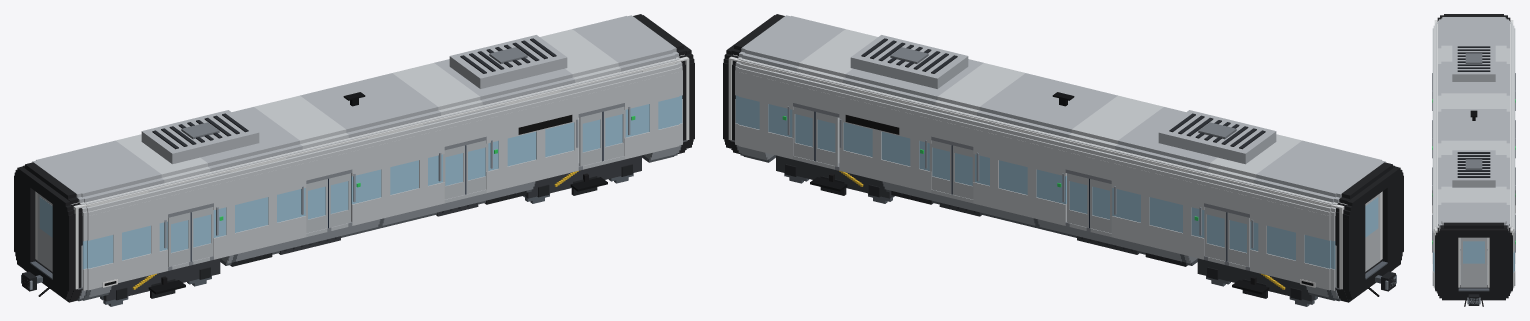
The model's file is r160_car.obj.
3 renders of one model, left to right at view 1: azimuth 30°, elevation 25°; view 2: azimuth 150°, elevation 25°; view 3: azimuth 270°, elevation 25°, orthographic. The views are drawn at different scales.
Visible parts, largest first — view 1: SHELL, SHELL_roof, SHELL_diaphragm, SHELL_ceiling, BOGEY_REAR, BOGEY_FRONT, FRAME, EXTERNAL_DOOR_22_CG_DR4_TOGGLE_TL_-0.61_X, EXTERNAL_DOOR_4_CG_DR1_TOGGLE_TL_-0.61_X, EXTERNAL_DOOR_10_CG_DR2_TOGGLE_TL_-0.61_X, EXTERNAL_DOOR_16_CG_DR3_TOGGLE_TL_-0.61_X, EXTERNAL_DOOR_5_CG_DR1_TOGGLE_TL_0.61_X (+7 smaller); view 2: SHELL, SHELL_roof, SHELL_diaphragm, SHELL_ceiling, BOGEY_REAR, BOGEY_FRONT, FRAME, EXTERNAL_DOOR_25_CG_DL4_TOGGLE_TL_-0.61_X, EXTERNAL_DOOR_7_CG_DL1_TOGGLE_TL_-0.61_X, EXTERNAL_DOOR_13_CG_DL2_TOGGLE_TL_-0.61_X, EXTERNAL_DOOR_19_CG_DL3_TOGGLE_TL_-0.61_X, EXTERNAL_DOOR_8_CG_DL1_TOGGLE_TL_0.61_X (+7 smaller); view 3: SHELL, SHELL_diaphragm, SHELL_roof, CONNECTING_DOOR_2_CG_CF_TOGGLE_TL_0.98_Z, SHELL_ceiling, SHELL_end, SHELL_handle, FRAME, SHELL_gangway.
Boxes of the visible parts, x1,y1,x2,y2 form: SHELL: (22,14,689,302); SHELL_roof: (141,35,567,164); SHELL_diaphragm: (14,15,694,299); SHELL_ceiling: (74,55,687,208); BOGEY_REAR: (103,258,220,301); BOGEY_FRONT: (525,155,641,198); FRAME: (21,191,526,296); EXTERNAL_DOOR_22_CG_DR4_TOGGLE_TL_-0.61_X: (579,111,603,166); EXTERNAL_DOOR_4_CG_DR1_TOGGLE_TL_-0.61_X: (167,212,191,266); EXTERNAL_DOOR_10_CG_DR2_TOGGLE_TL_-0.61_X: (305,178,328,233); EXTERNAL_DOOR_16_CG_DR3_TOGGLE_TL_-0.61_X: (443,145,466,199); EXTERNAL_DOOR_5_CG_DR1_TOGGLE_TL_0.61_X: (191,207,213,261); SHELL: (728,14,1395,302); SHELL_roof: (850,35,1276,164); SHELL_diaphragm: (723,15,1403,299); SHELL_ceiling: (730,55,1343,208); BOGEY_REAR: (1197,258,1314,301); BOGEY_FRONT: (776,155,892,198); FRAME: (891,191,1396,296); EXTERNAL_DOOR_25_CG_DL4_TOGGLE_TL_-0.61_X: (814,111,838,166); EXTERNAL_DOOR_7_CG_DL1_TOGGLE_TL_-0.61_X: (1226,212,1250,266); EXTERNAL_DOOR_13_CG_DL2_TOGGLE_TL_-0.61_X: (1089,178,1112,233); EXTERNAL_DOOR_19_CG_DL3_TOGGLE_TL_-0.61_X: (951,145,974,199); EXTERNAL_DOOR_8_CG_DL1_TOGGLE_TL_0.61_X: (1204,207,1226,261); SHELL: (1432,14,1515,300); SHELL_diaphragm: (1435,15,1512,298); SHELL_roof: (1452,44,1495,187); CONNECTING_DOOR_2_CG_CF_TOGGLE_TL_0.98_Z: (1460,237,1487,287); SHELL_ceiling: (1434,20,1513,229); SHELL_end: (1434,20,1513,287); SHELL_handle: (1432,73,1515,252); FRAME: (1464,294,1483,306); SHELL_gangway: (1458,288,1489,290).
Size of the model in its own units: 19.64 by 4.01 by 3.08.
Materials: 1 (1 with a texture image).
